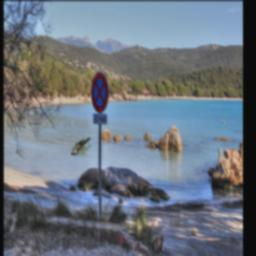Cuckoo: (71, 138, 92, 156)
